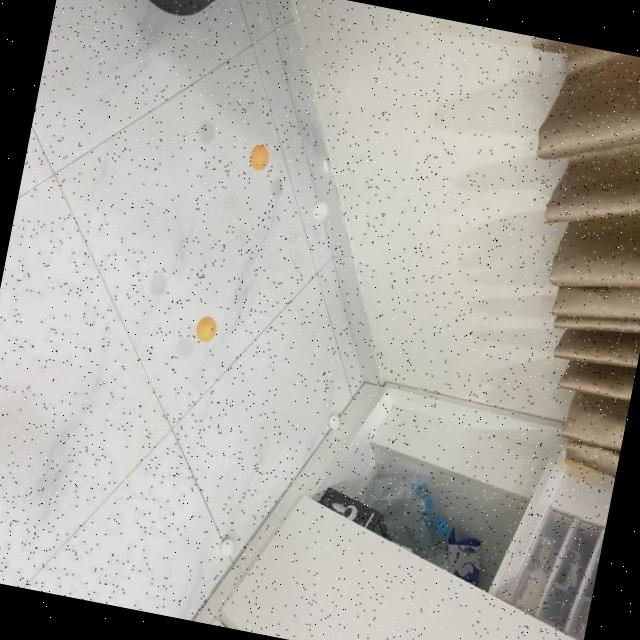ping-pong-ball: (194, 314, 221, 344), (248, 142, 272, 173), (310, 200, 330, 220), (218, 536, 236, 558), (326, 411, 342, 429)
